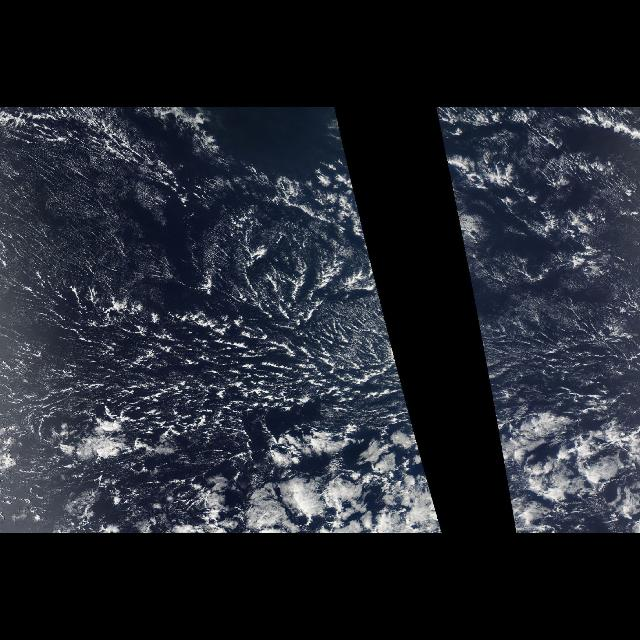Gravel: (6, 138, 394, 418), (474, 231, 628, 407)
Sugar: (1, 113, 406, 400), (436, 113, 638, 400)
